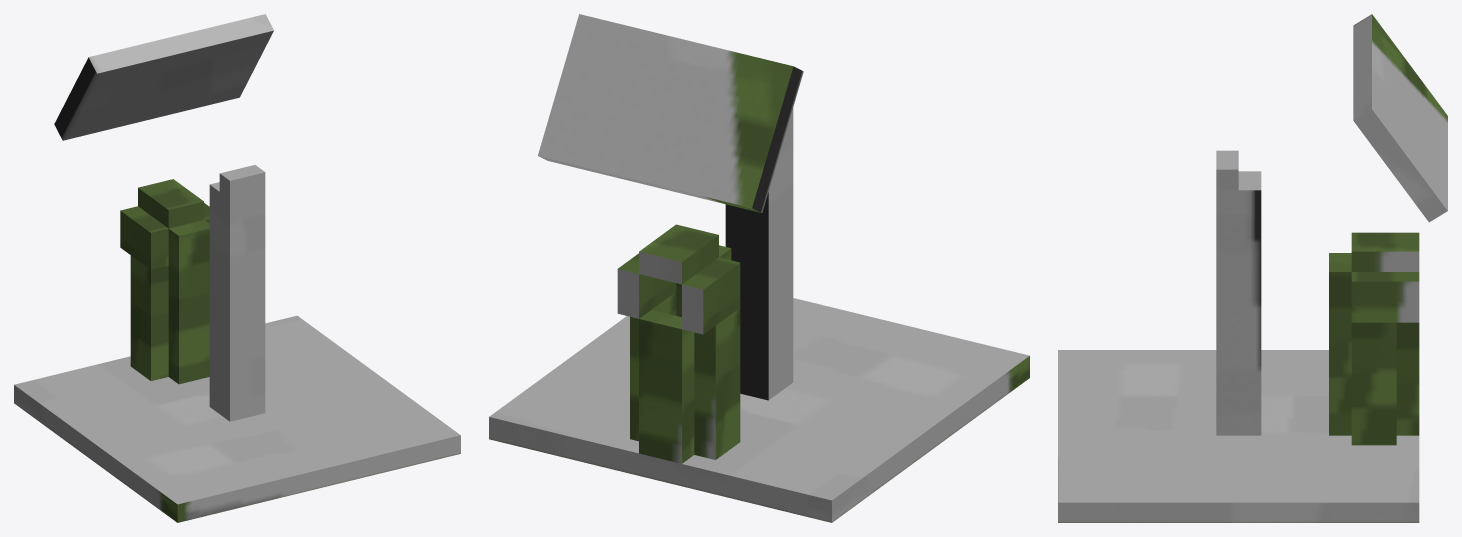
Rendered from assembly_controller.obj.
3 views of the same model, side by side, from view 1: azimuth 30°, elevation 25°; view 2: azimuth 150°, elevation 25°; view 3: azimuth 270°, elevation 25° (orthographic). The views are drawn at different scales.
Visible parts, largest first — view 1: Base, Screen, Tube; view 2: Base, Screen, Tube; view 3: Base, Screen, Tube.
Part boxes in pixels (x1,y1,x2,y2): Base: [14, 315, 460, 522]; Screen: [54, 14, 273, 421]; Tube: [120, 179, 209, 384]; Base: [489, 298, 1029, 522]; Screen: [538, 14, 803, 400]; Tube: [617, 224, 740, 463]; Base: [1058, 350, 1419, 522]; Screen: [1216, 14, 1447, 435]; Tube: [1329, 232, 1419, 445].
Bounding box in the file's own units: 1 × 1.18 × 1.08.
